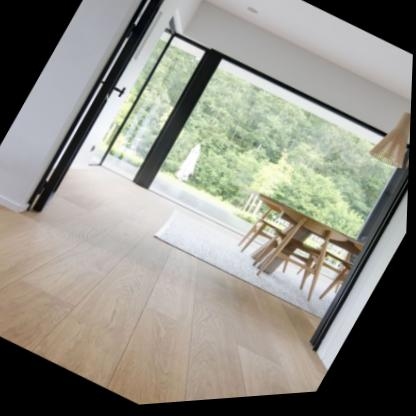Wooden floor: (0, 168, 330, 407)
